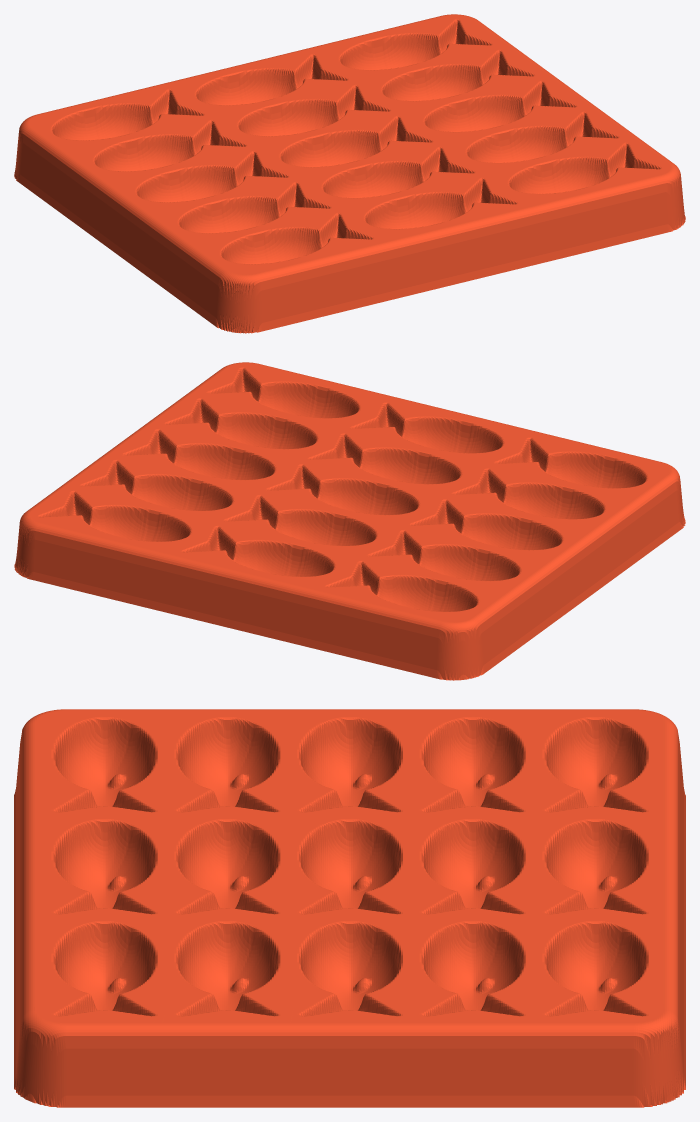
File: mold.glb
The picture shows the model from 3 angles, top to bottom: view 1: azimuth 30°, elevation 25°; view 2: azimuth 150°, elevation 25°; view 3: azimuth 270°, elevation 25°; orthographic projection. The views are drawn at different scales.
Visible parts, largest first — view 1: geometry_0; view 2: geometry_0; view 3: geometry_0.
Part boxes in pixels (<box>): geometry_0: <box>14,14,685,333</box>; geometry_0: <box>14,362,685,680</box>; geometry_0: <box>14,709,685,1107</box>.
Bounding box in the file's own units: 0.1361 × 0.0145 × 0.117.
